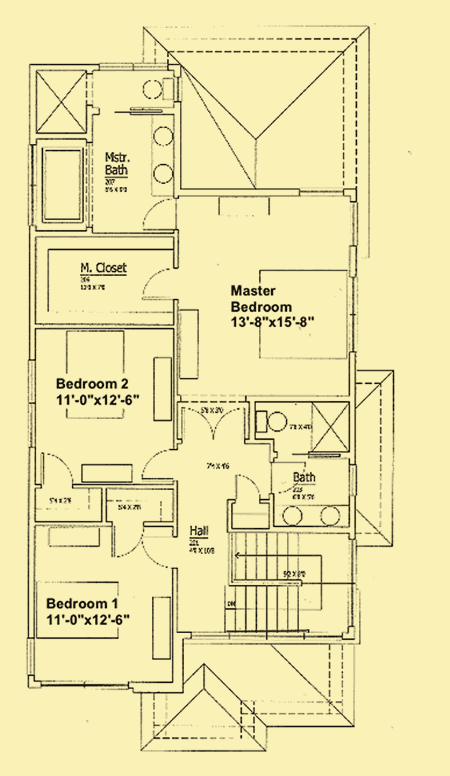bed: (63, 325, 131, 425)
door: (179, 400, 248, 445), (138, 194, 183, 237), (137, 265, 183, 307), (138, 531, 182, 574), (35, 444, 76, 489), (264, 457, 312, 495), (138, 443, 184, 481), (106, 521, 149, 560), (229, 471, 264, 506)
large sink: (252, 398, 292, 443), (136, 72, 179, 104)
small sink: (275, 499, 352, 534), (148, 114, 179, 199)
stairs: (217, 529, 356, 644)
tub: (38, 144, 88, 229)
windows: (22, 353, 43, 450), (37, 676, 129, 694), (344, 272, 359, 358)
